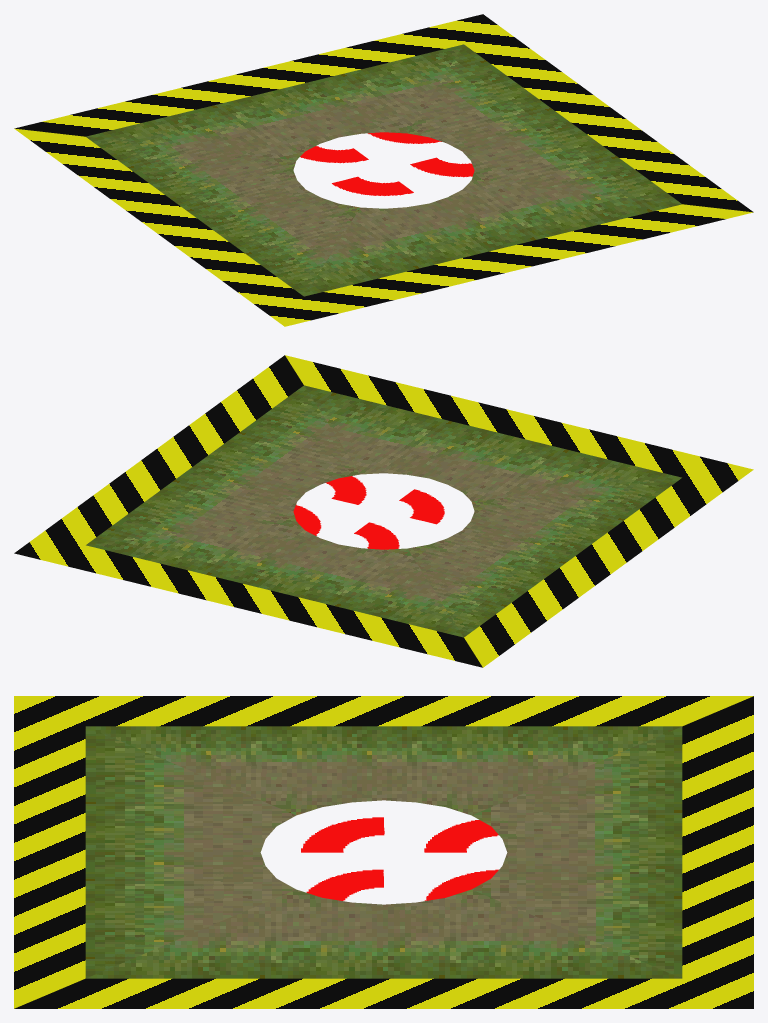
File: uvmd-0265.glb
The picture shows the model from 3 angles, top to bottom: view 1: azimuth 30°, elevation 25°; view 2: azimuth 150°, elevation 25°; view 3: azimuth 270°, elevation 25°; orthographic projection. The views are drawn at different scales.
Visible parts, largest first — view 1: uvmd-0265; view 2: uvmd-0265; view 3: uvmd-0265.
Part boxes in pixels (<box>): uvmd-0265: <box>14,14,753,326</box>; uvmd-0265: <box>14,355,753,667</box>; uvmd-0265: <box>14,696,753,1008</box>.
Bounding box in the file's own units: 600 × 0 × 600.
4 materials, 4 textured.
